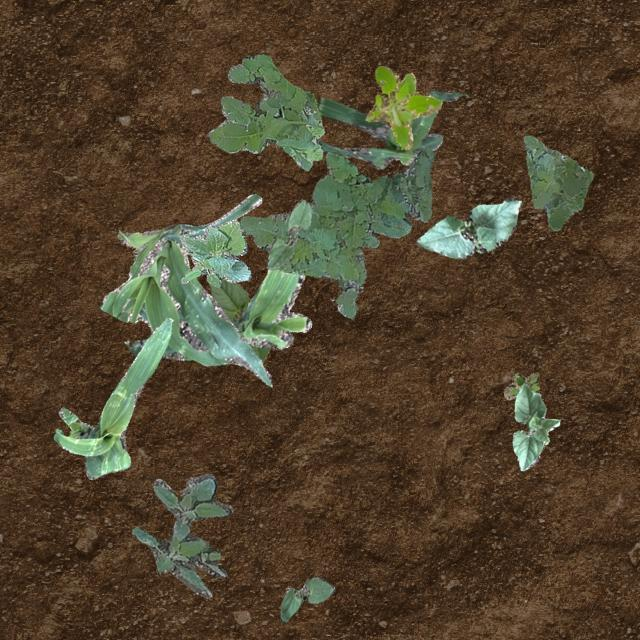crop: (98, 192, 270, 386), (52, 316, 172, 478), (127, 268, 310, 360), (316, 89, 462, 168), (416, 196, 520, 258), (208, 278, 270, 362), (178, 218, 250, 286), (512, 382, 558, 470), (264, 198, 310, 268), (278, 576, 334, 622)
weed: (237, 146, 433, 316), (205, 52, 324, 170), (130, 472, 232, 598), (522, 134, 592, 230), (364, 64, 440, 148), (502, 372, 538, 398)
